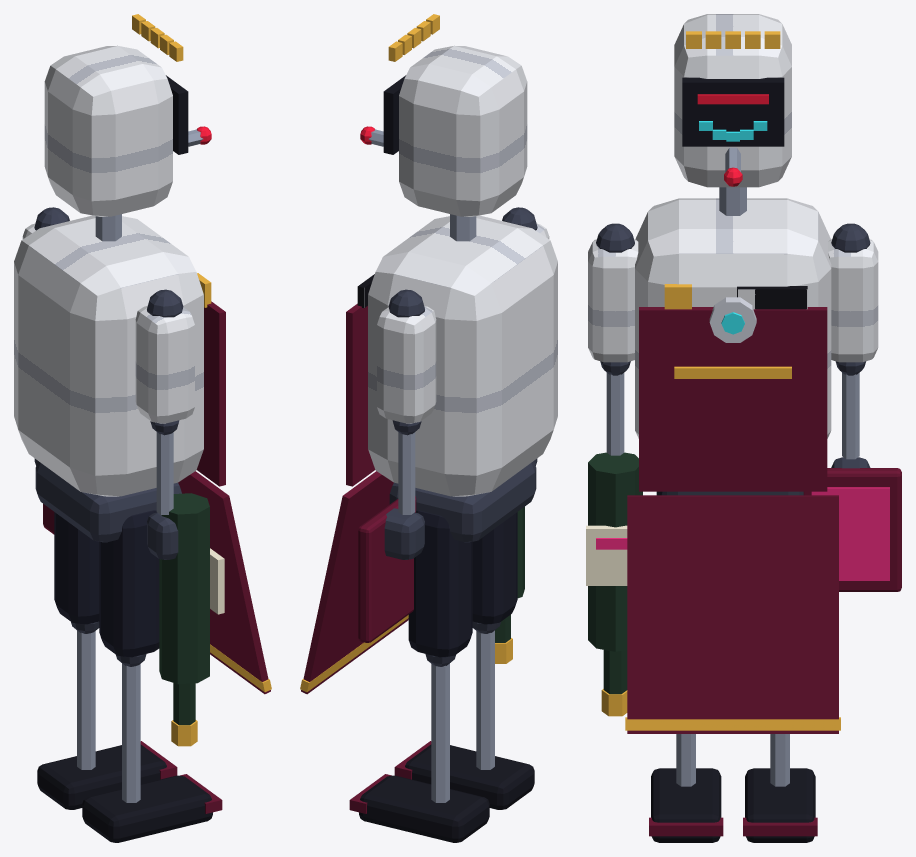
The model's file is sommelier.glb.
The picture shows the model from 3 angles, left to right: view 1: azimuth 30°, elevation 25°; view 2: azimuth 150°, elevation 25°; view 3: azimuth 270°, elevation 25°; orthographic projection. The views are drawn at different scales.
Parts seen in each view (by area): view 1: p_rbox.104, p_rbox.105, p_cyl.090, p_rbox.096, p_box.175, p_rbox.098, p_rbox.097, p_rbox.095, p_rbox.100, p_rbox.101, p_box.174, p_cyl.082 (+11 smaller); view 2: p_rbox.104, p_rbox.105, p_box.175, p_rbox.100, p_rbox.102, p_rbox.101, p_rbox.106, p_rbox.095, p_rbox.096, p_rbox.097, p_box.174, p_cyl.084 (+9 smaller); view 3: p_box.175, p_box.174, p_rbox.104, p_rbox.105, p_cyl.090, p_box.162, p_rbox.102, p_rbox.098, p_box.180, p_rbox.097, p_rbox.101, p_rbox.106 (+19 smaller).
Part boxes in pixels (x1=…): p_rbox.104: x1=14, y1=215, x2=203, y2=496; p_rbox.105: x1=44, y1=45, x2=172, y2=216; p_cyl.090: x1=159, y1=493, x2=209, y2=684; p_rbox.096: x1=99, y1=510, x2=159, y2=657; p_box.175: x1=178, y1=471, x2=270, y2=694; p_rbox.098: x1=135, y1=306, x2=194, y2=423; p_rbox.097: x1=82, y1=775, x2=212, y2=842; p_rbox.095: x1=35, y1=461, x2=181, y2=542; p_rbox.100: x1=54, y1=512, x2=99, y2=624; p_rbox.101: x1=37, y1=744, x2=166, y2=809; p_box.174: x1=196, y1=301, x2=225, y2=486; p_cyl.082: x1=122, y1=663, x2=140, y2=802; p_rbox.104: x1=368, y1=215, x2=557, y2=496; p_rbox.105: x1=399, y1=45, x2=527, y2=216; p_box.175: x1=301, y1=471, x2=408, y2=694; p_rbox.100: x1=408, y1=510, x2=472, y2=657; p_rbox.102: x1=377, y1=306, x2=436, y2=423; p_rbox.101: x1=359, y1=775, x2=489, y2=842; p_rbox.106: x1=358, y1=496, x2=416, y2=642; p_rbox.095: x1=389, y1=461, x2=536, y2=542; p_rbox.096: x1=472, y1=512, x2=517, y2=624; p_rbox.097: x1=405, y1=744, x2=534, y2=809; p_box.174: x1=346, y1=303, x2=375, y2=486; p_cyl.084: x1=431, y1=663, x2=449, y2=802; p_box.175: x1=627, y1=495, x2=838, y2=733; p_box.174: x1=639, y1=307, x2=827, y2=491; p_rbox.104: x1=635, y1=198, x2=831, y2=438; p_rbox.105: x1=674, y1=14, x2=791, y2=187; p_cyl.090: x1=588, y1=452, x2=642, y2=651; p_box.162: x1=682, y1=77, x2=784, y2=146; p_rbox.102: x1=828, y1=239, x2=878, y2=362; p_rbox.098: x1=588, y1=239, x2=638, y2=362; p_box.180: x1=811, y1=487, x2=889, y2=580; p_rbox.097: x1=651, y1=768, x2=721, y2=842; p_rbox.101: x1=745, y1=768, x2=815, y2=842; p_rbox.106: x1=803, y1=468, x2=901, y2=591.
Size of the model in its own units: 0.5442 by 2.26 by 0.805.
Materials: 14 (2 with a texture image).
